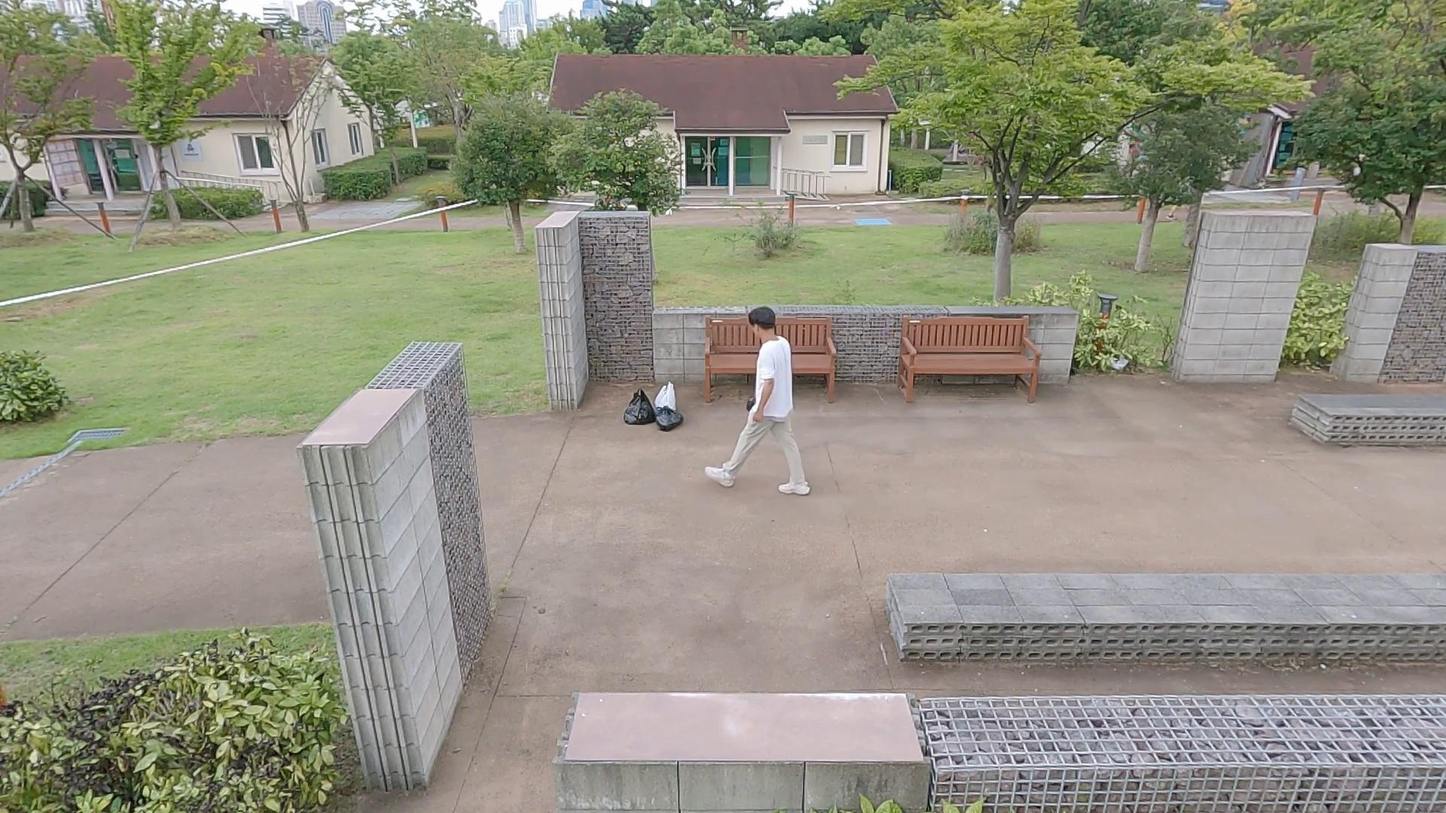person: (704, 306, 812, 496)
trash: (624, 388, 656, 426), (655, 380, 680, 410), (652, 407, 684, 430), (745, 395, 755, 412)
